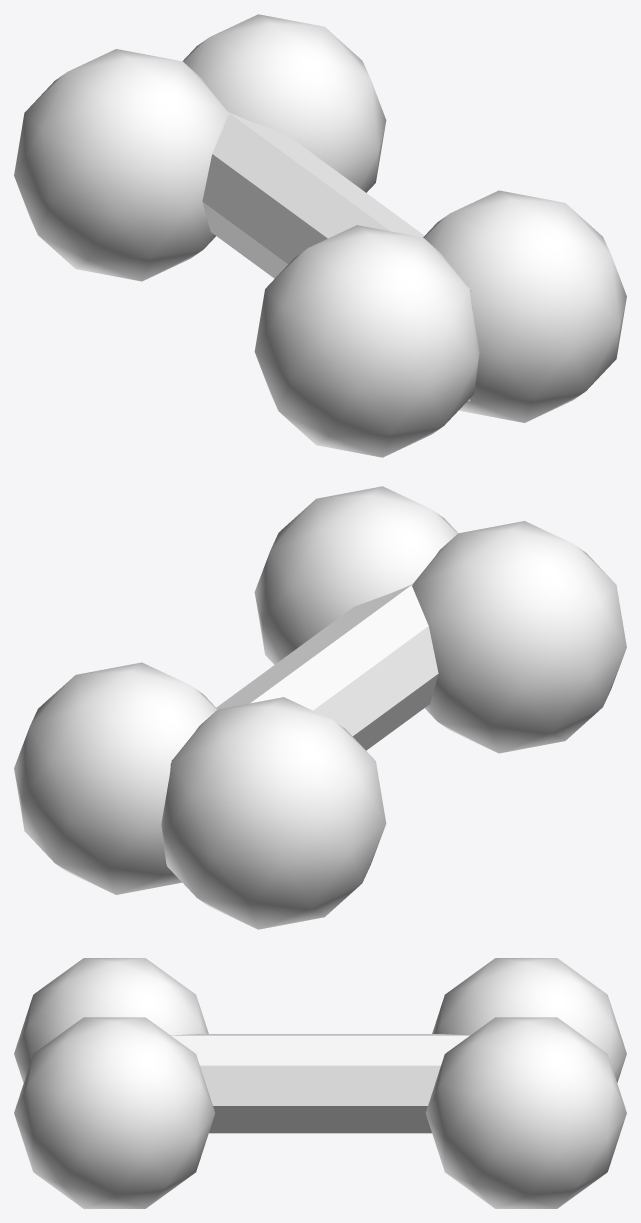
The model's file is Bones.fbx.
3 views of the same model, one above another, from view 1: azimuth 30°, elevation 25°; view 2: azimuth 150°, elevation 25°; view 3: azimuth 270°, elevation 25° (orthographic). The views are drawn at different scales.
Parts seen in each view (by area): view 1: Bones; view 2: Bones; view 3: Bones.
Part boxes in pixels (x1,y1,x2,y2): Bones: (14,14,626,457); Bones: (14,486,626,929); Bones: (14,958,626,1208).
Bounding box in the file's own units: 92.19 × 55.95 × 170.
